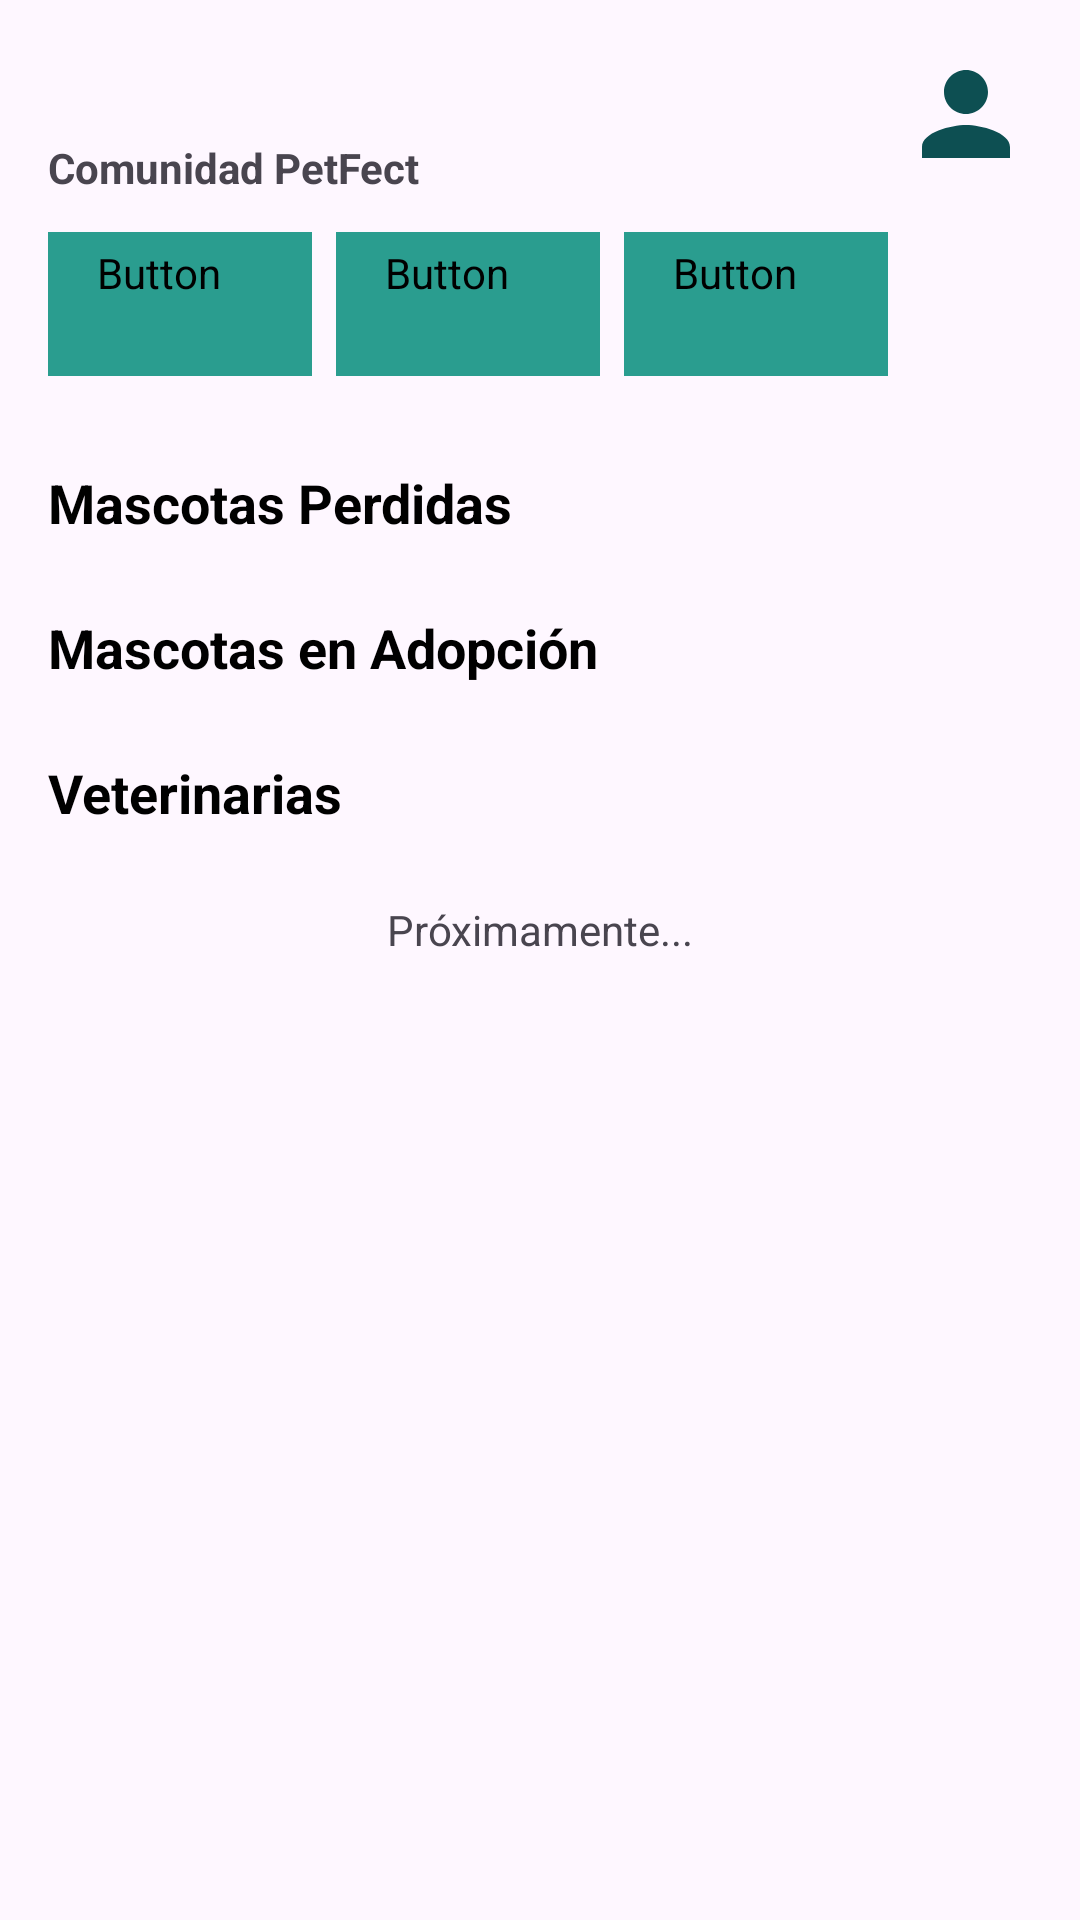

Point at icon controls on the screen. Image size 1080x1920, points as point (x, y).
person: point (966, 114)
